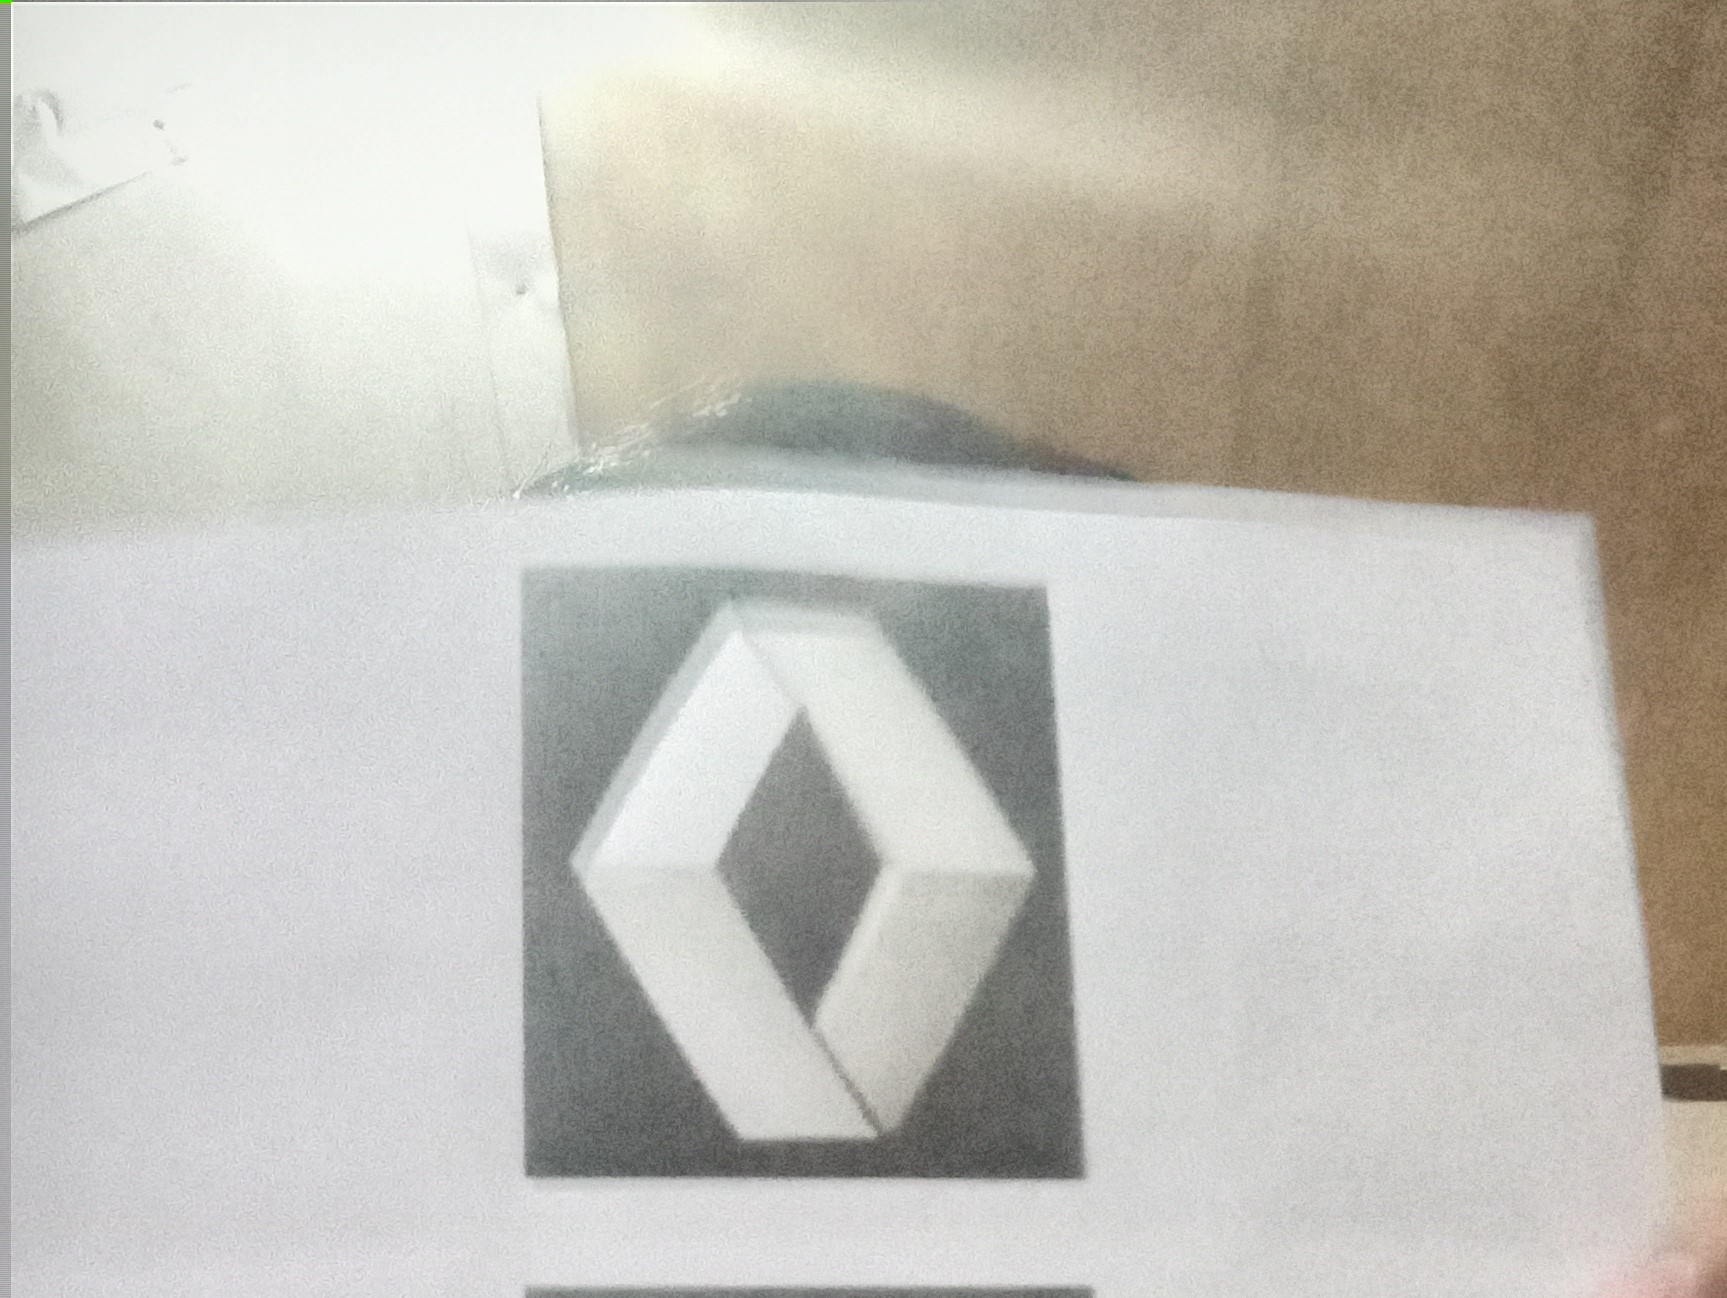Renault: (538, 579, 1048, 1164)
